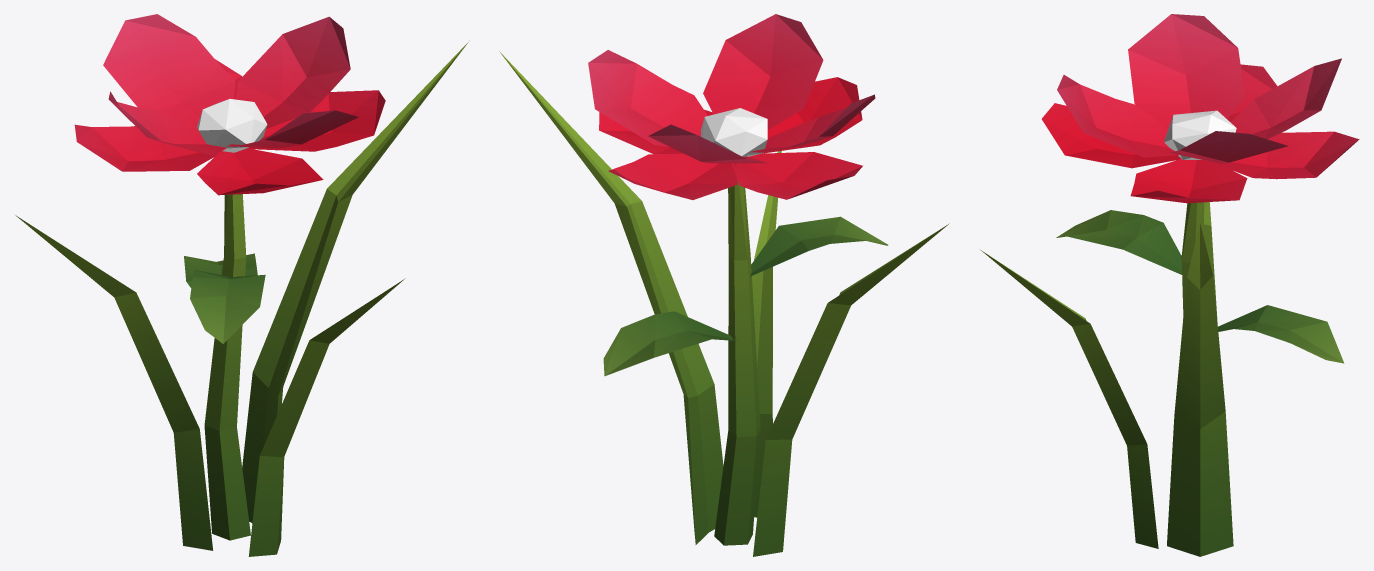
The model's file is Flower_04.obj.
The picture shows the model from 3 angles, left to right: view 1: azimuth 30°, elevation 25°; view 2: azimuth 150°, elevation 25°; view 3: azimuth 270°, elevation 25°; orthographic projection.
Parts seen in each view (by area): view 1: Flower_04; view 2: Flower_04; view 3: Flower_04.
Part boxes in pixels (<box>): Flower_04: <box>15,14,469,556</box>; Flower_04: <box>499,14,949,556</box>; Flower_04: <box>981,14,1359,556</box>.
Bounding box in the file's own units: 0.441 × 0.4354 × 0.3234.
1 material, 1 textured.
